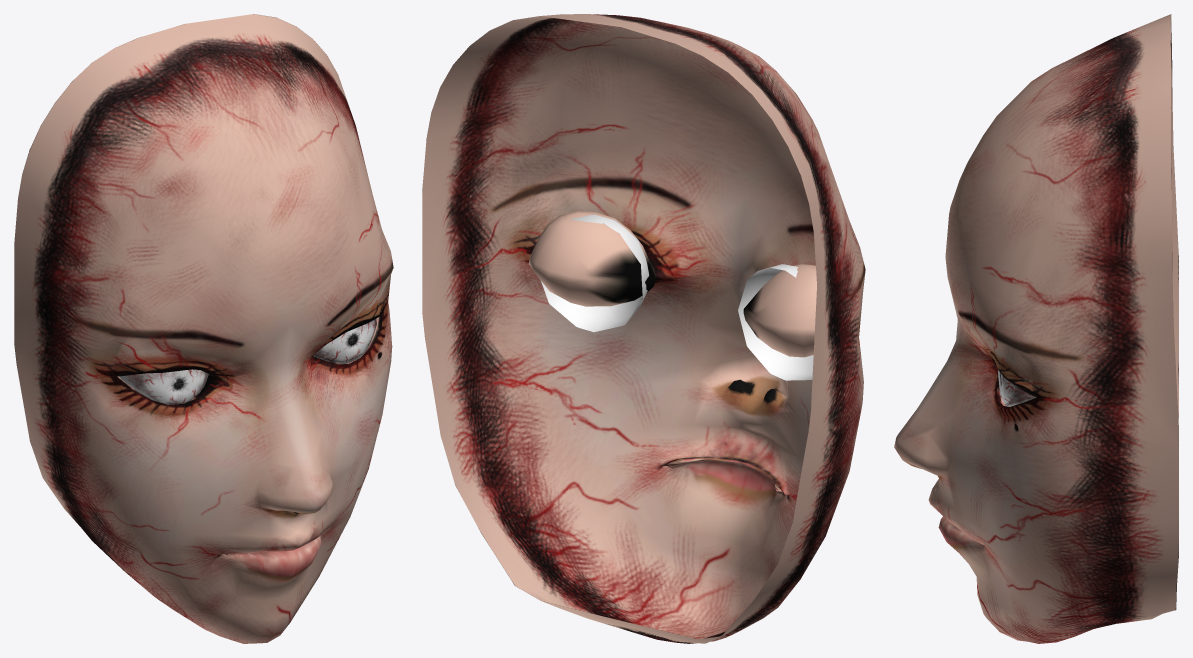
Rendered from 9F_NormalFace.FBX.
3 renders of one model, left to right at view 1: azimuth 30°, elevation 25°; view 2: azimuth 150°, elevation 25°; view 3: azimuth 270°, elevation 25°, orthographic. The views are drawn at different scales.
Parts seen in each view (by area): view 1: Face00; view 2: Face00; view 3: Face00.
Part boxes in pixels (x1,y1,x2,y2): Face00: (14, 14, 393, 643); Face00: (422, 14, 865, 643); Face00: (894, 14, 1178, 643).
Bounding box in the file's own units: 109 × 175 × 76.2.
